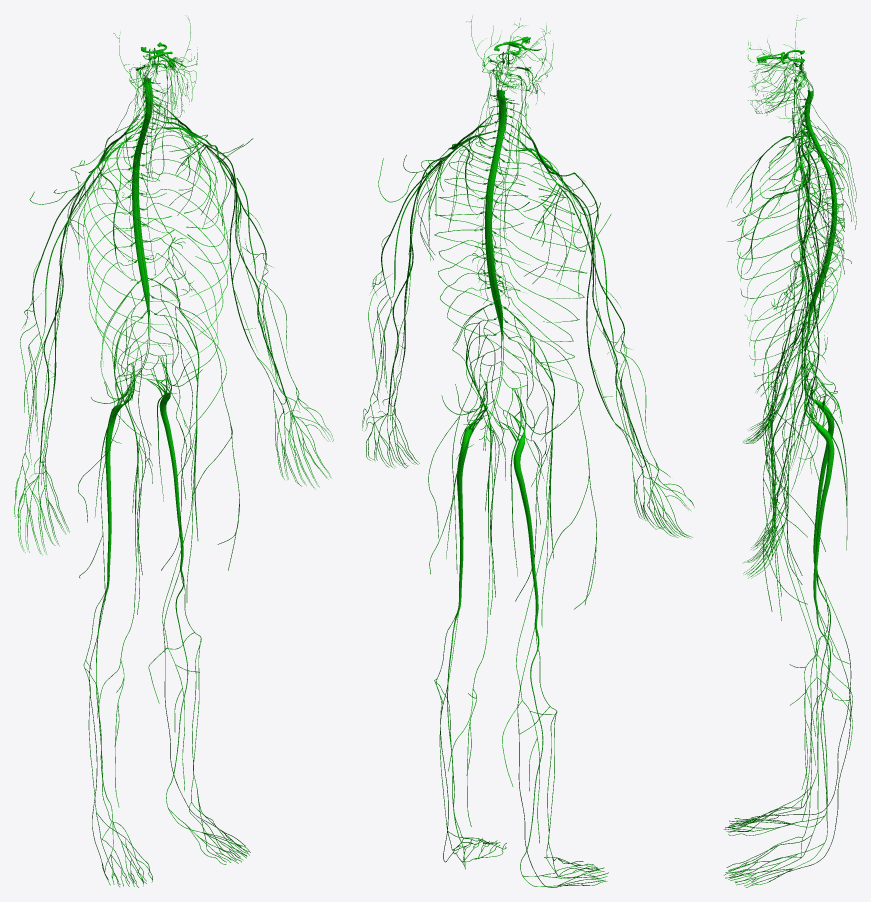
The model's file is nerves.glb.
The picture shows the model from 3 angles, left to right: view 1: azimuth 30°, elevation 25°; view 2: azimuth 150°, elevation 25°; view 3: azimuth 270°, elevation 25°; orthographic projection. The views are drawn at different scales.
Visible parts, largest first — view 1: nerves|L, nerves|R, arm_nerves|R, arm_nerves|L, sciatic_nerve|L, sciatic_nerve|R, spinal_cord|C; view 2: nerves|L, nerves|R, arm_nerves|R, arm_nerves|L, sciatic_nerve|R, spinal_cord|C, sciatic_nerve|L; view 3: nerves|L, arm_nerves|L, nerves|R, sciatic_nerve|L, arm_nerves|R, sciatic_nerve|R, spinal_cord|C.
Boxes of the visible parts, bbox=[...] form: nerves|L: bbox=[139, 15, 239, 791]; nerves|R: bbox=[78, 32, 175, 807]; arm_nerves|R: bbox=[14, 102, 167, 555]; arm_nerves|L: bbox=[151, 99, 333, 489]; sciatic_nerve|L: bbox=[147, 356, 250, 864]; sciatic_nerve|R: bbox=[83, 363, 152, 887]; spinal_cord|C: bbox=[127, 76, 172, 400]; nerves|L: bbox=[428, 16, 529, 826]; nerves|R: bbox=[491, 25, 596, 843]; arm_nerves|R: bbox=[504, 110, 694, 538]; arm_nerves|L: bbox=[362, 106, 523, 468]; sciatic_nerve|R: bbox=[501, 389, 608, 887]; spinal_cord|C: bbox=[479, 89, 527, 450]; sciatic_nerve|L: bbox=[434, 382, 506, 869]; nerves|L: bbox=[737, 48, 856, 821]; arm_nerves|L: bbox=[727, 114, 854, 578]; nerves|R: bbox=[737, 15, 856, 789]; sciatic_nerve|L: bbox=[723, 379, 851, 887]; arm_nerves|R: bbox=[727, 106, 854, 443]; sciatic_nerve|R: bbox=[723, 365, 851, 835]; spinal_cord|C: bbox=[799, 89, 842, 423].
Size of the model in its own units: 0.6674 by 1.66 by 0.2425.
